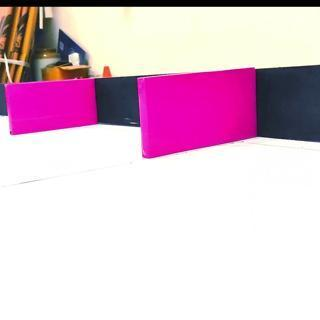xparking: (137, 76, 255, 158), (4, 82, 96, 134)
